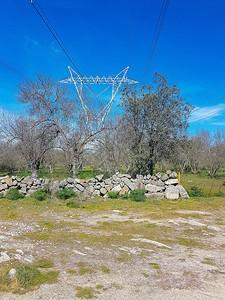power_tower: (58, 64, 141, 137)
